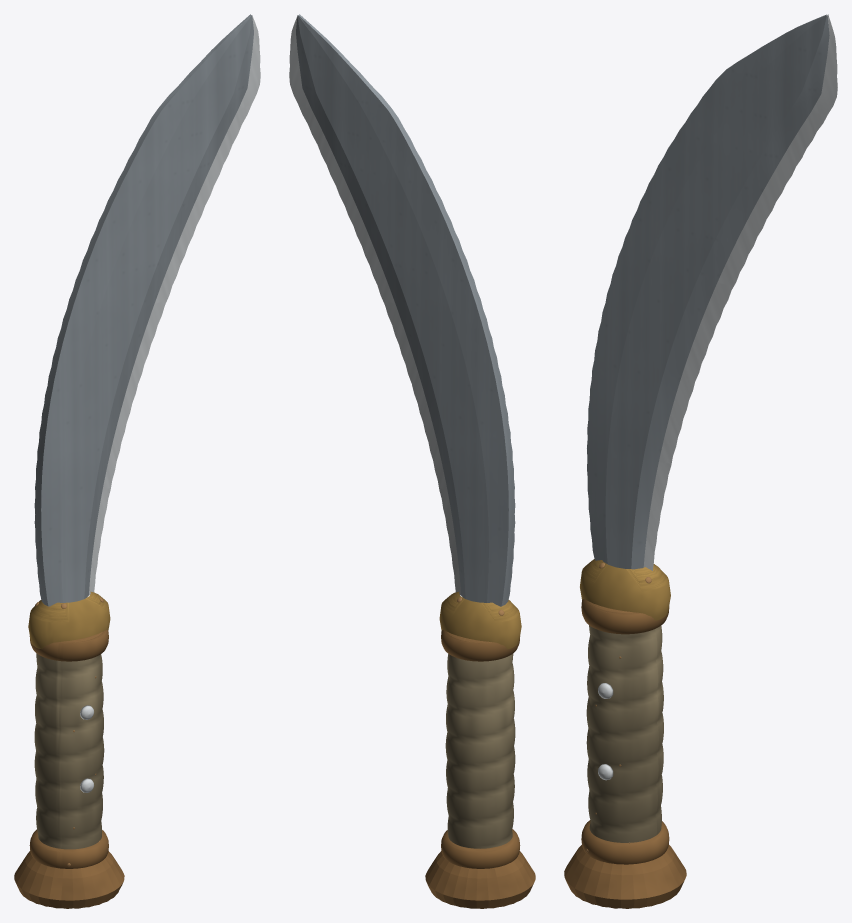
Rendered from kukri.glb.
3 renders of one model, left to right at view 1: azimuth 30°, elevation 25°; view 2: azimuth 150°, elevation 25°; view 3: azimuth 330°, elevation 25°, orthographic. The views are drawn at different scales.
Visible parts, largest first — view 1: steel / forged blade steel, horn / polished horn and bone, bronze / cast bronze with patina, edge / honed bright bevel, brass / polished brass furniture; view 2: steel / forged blade steel, horn / polished horn and bone, bronze / cast bronze with patina, edge / honed bright bevel, brass / polished brass furniture; view 3: steel / forged blade steel, horn / polished horn and bone, edge / honed bright bevel, bronze / cast bronze with patina, brass / polished brass furniture.
Part boxes in pixels (<box>): steel / forged blade steel: <box>34,14,253,606</box>; horn / polished horn and bone: <box>34,653,104,849</box>; bronze / cast bronze with patina: <box>14,630,124,908</box>; edge / honed bright bevel: <box>80,15,260,792</box>; brass / polished brass furniture: <box>28,591,110,649</box>; steel / forged blade steel: <box>296,14,515,606</box>; horn / polished horn and bone: <box>445,653,515,848</box>; bronze / cast bronze with patina: <box>425,630,535,908</box>; edge / honed bright bevel: <box>289,17,460,595</box>; brass / polished brass furniture: <box>439,591,521,649</box>; steel / forged blade steel: <box>587,14,829,569</box>; horn / polished horn and bone: <box>586,625,663,842</box>; edge / honed bright bevel: <box>598,15,837,780</box>; bronze / cast bronze with patina: <box>564,599,686,908</box>; brass / polished brass furniture: <box>580,559,670,620</box>.
Bounding box in the file's own units: 0.1438 × 0.476 × 0.0576.
Materials: 6 (5 with a texture image).
